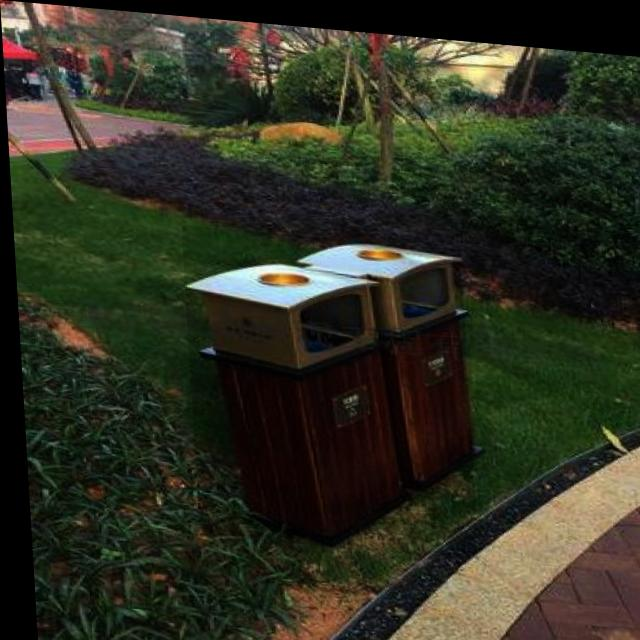garbage_bin: (179, 222, 472, 551)
